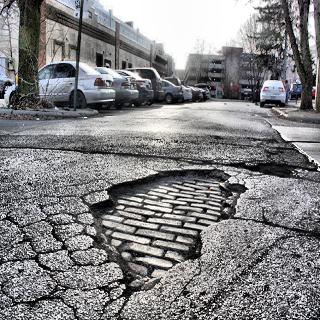alligator-crack: (2, 206, 108, 316)
crack: (0, 142, 183, 161), (254, 198, 320, 246)
pothole: (81, 154, 250, 296), (249, 154, 301, 186)
